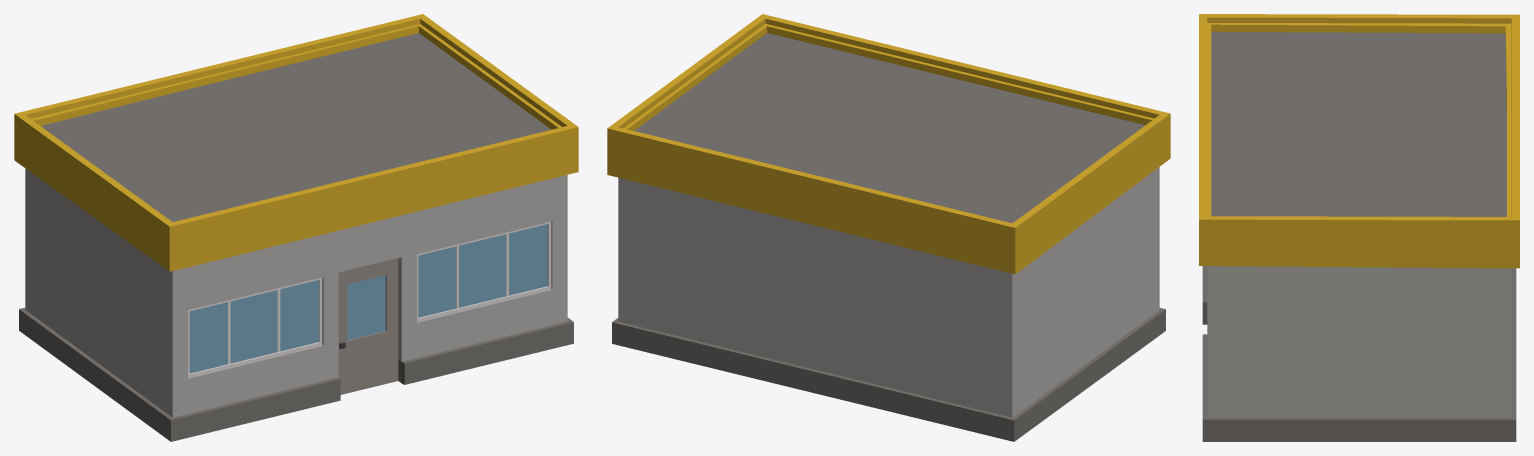
The model's file is Gas_Station_02.fbx.
The picture shows the model from 3 angles, left to right: view 1: azimuth 30°, elevation 25°; view 2: azimuth 150°, elevation 25°; view 3: azimuth 270°, elevation 25°; orthographic projection. The views are drawn at different scales.
Parts seen in each view (by area): view 1: Gas_Station_02; view 2: Gas_Station_02; view 3: Gas_Station_02.
Boxes of the visible parts, box(x1,y1,x2,y2) form: Gas_Station_02: box(14, 14, 578, 441); Gas_Station_02: box(607, 14, 1170, 441); Gas_Station_02: box(1199, 14, 1519, 441).
Bounding box in the file's own units: 14.11 × 7.16 × 9.3.
